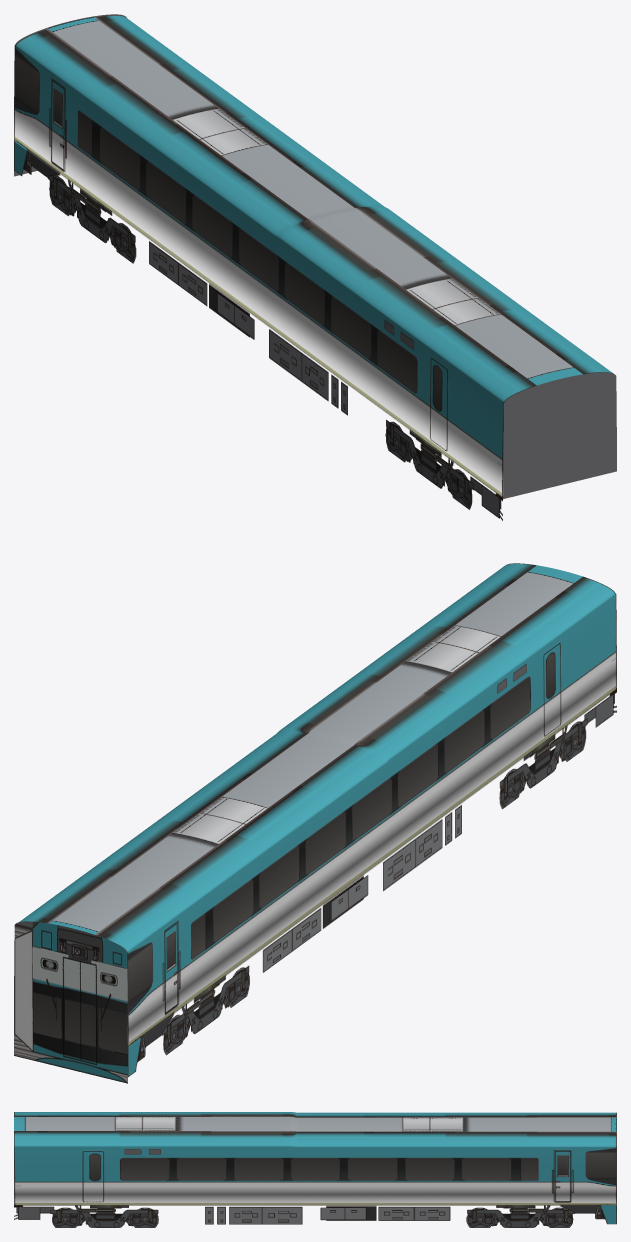
File: car3.glb
The picture shows the model from 3 angles, top to bottom: view 1: azimuth 30°, elevation 25°; view 2: azimuth 150°, elevation 25°; view 3: azimuth 270°, elevation 25°; orthographic projection. The views are drawn at different scales.
Parts seen in each view (by area): view 1: jr-west-283-car3; view 2: jr-west-283-car3; view 3: jr-west-283-car3.
Boxes of the visible parts, box(x1,y1,x2,y2) form: jr-west-283-car3: box(14, 14, 616, 520); jr-west-283-car3: box(14, 563, 616, 1083); jr-west-283-car3: box(14, 1112, 616, 1227).
Size of the model in its own units: 2.85 by 3.39 by 21.21.
Materials: 6 (5 with a texture image).
